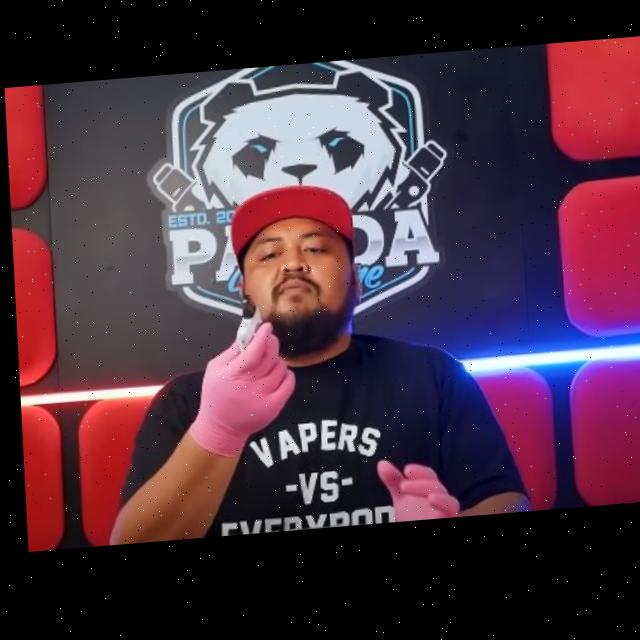vape: (232, 298, 260, 356)
